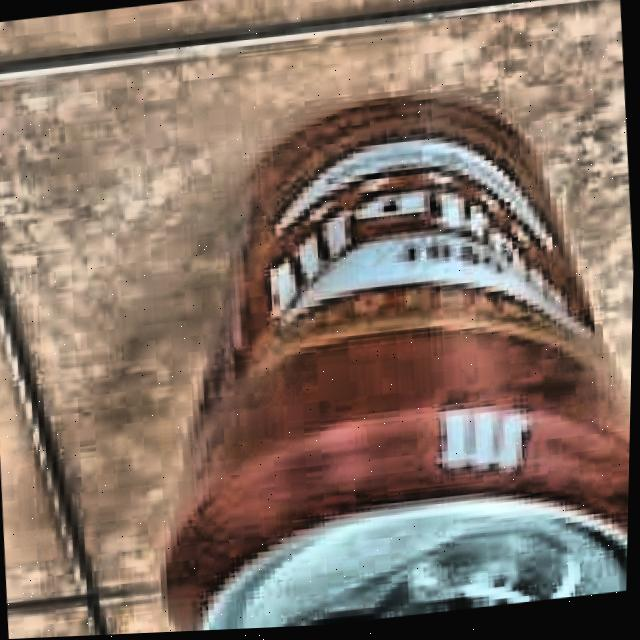metal: (150, 97, 633, 634)
